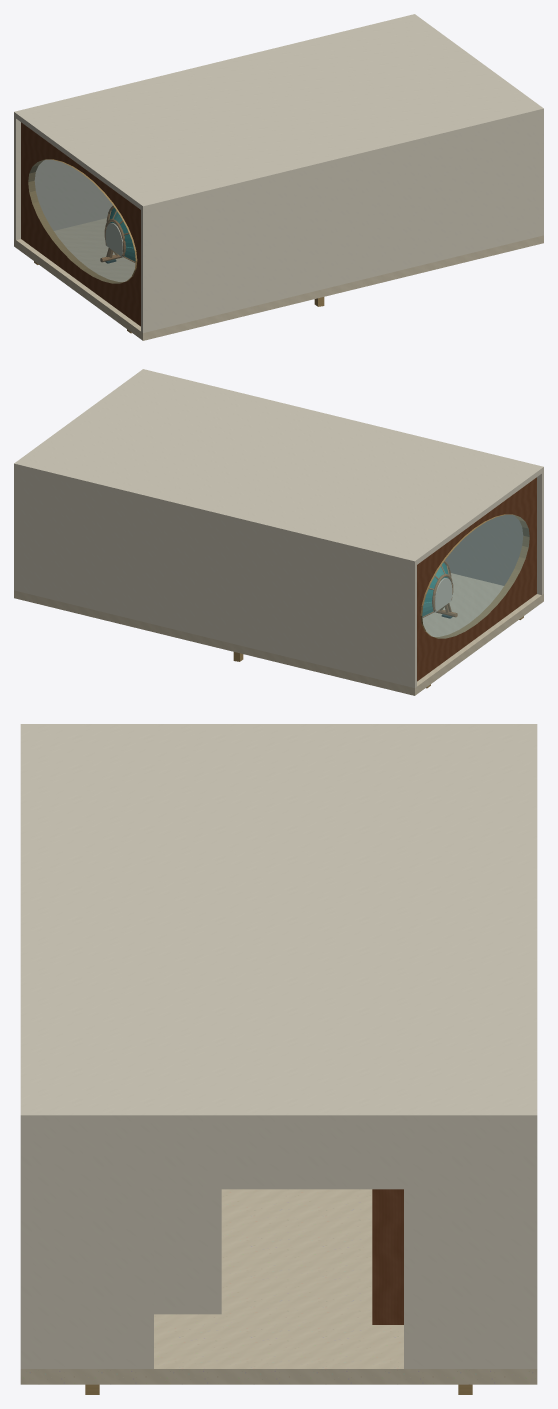
Rendered from NightGardenD15Specialty_416_r002.glb.
The picture shows the model from 3 angles, top to bottom: view 1: azimuth 30°, elevation 25°; view 2: azimuth 150°, elevation 25°; view 3: azimuth 270°, elevation 25°; orthographic projection. The views are drawn at different scales.
Visible parts, largest first — view 1: NG416_RuntimeBatch_001, NG416_OvalAtriumGlass, NG416_RoomFloor, NG416_RuntimeBatch_002, NG416_RuntimeBatch_004, NG416_ReservedRestSupport__Rear ivory acoustic diffuser, NG416_RuntimeBatch_010; view 2: NG416_RuntimeBatch_001, NG416_OvalAtriumGlass, NG416_RoomFloor, NG416_RuntimeBatch_002, NG416_RuntimeBatch_004, NG416_ReservedRestSupport__Rear ivory acoustic diffuser, NG416_RuntimeBatch_010; view 3: NG416_RuntimeBatch_001, NG416_RoomFloor, NG416_RuntimeBatch_002.
Boxes of the visible parts, x1,y1,x2,y2 form: NG416_RuntimeBatch_001: (14, 14, 543, 332); NG416_OvalAtriumGlass: (28, 160, 135, 283); NG416_RoomFloor: (14, 218, 543, 340); NG416_RuntimeBatch_002: (21, 122, 140, 326); NG416_RuntimeBatch_004: (28, 159, 324, 333); NG416_ReservedRestSupport__Rear ivory acoustic diffuser: (105, 223, 123, 257); NG416_RuntimeBatch_010: (100, 206, 135, 262); NG416_RuntimeBatch_001: (14, 369, 543, 687); NG416_OvalAtriumGlass: (422, 515, 529, 638); NG416_RoomFloor: (14, 573, 543, 695); NG416_RuntimeBatch_002: (417, 477, 536, 681); NG416_RuntimeBatch_004: (233, 514, 529, 688); NG416_ReservedRestSupport__Rear ivory acoustic diffuser: (434, 578, 452, 612); NG416_RuntimeBatch_010: (422, 561, 457, 617); NG416_RuntimeBatch_001: (20, 724, 537, 1368); NG416_RoomFloor: (20, 1189, 537, 1384); NG416_RuntimeBatch_002: (372, 1189, 403, 1324).
Size of the model in its own units: 12.9 by 4.91 by 7.2.
Materials: 58 (43 with a texture image).
